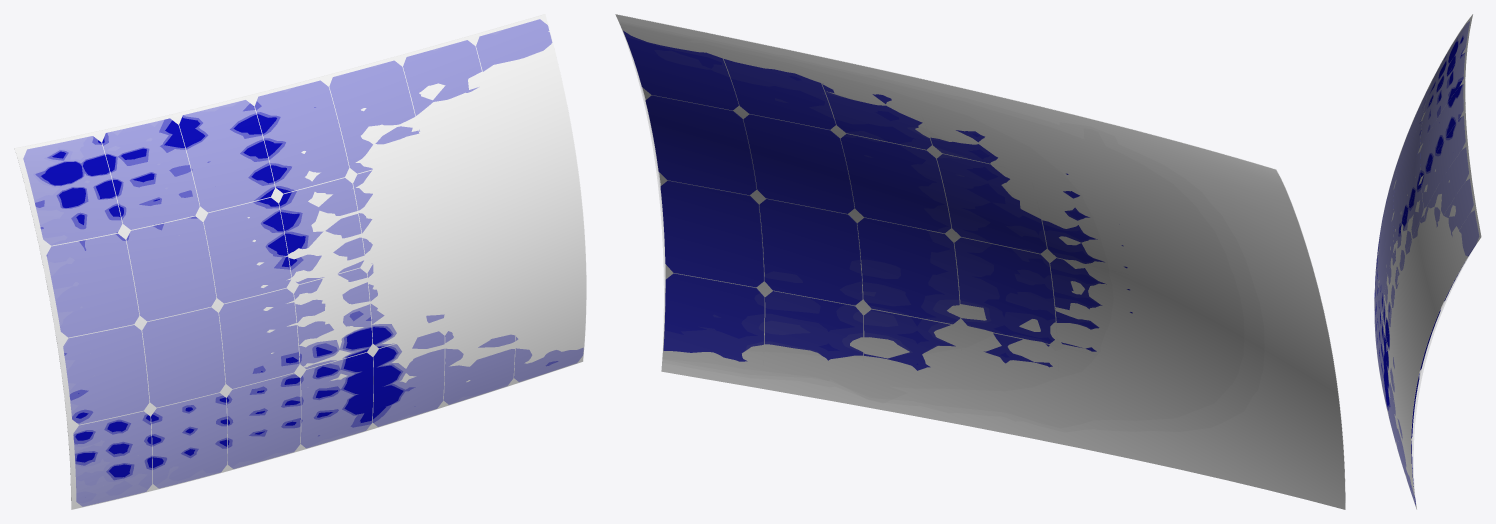
File: solpanel.gltf
3 renders of one model, left to right at view 1: azimuth 30°, elevation 25°; view 2: azimuth 150°, elevation 25°; view 3: azimuth 270°, elevation 25°, orthographic. The views are drawn at different scales.
Parts seen in each view (by area): view 1: solpanel_47, solpanel_12, solpanel_3, solpanel_32, solpanel_58, solpanel_53, solpanel_11, solpanel_45, solpanel_34, solpanel_48, solpanel_24, solpanel_41 (+22 smaller); view 2: solpanel_0, solpanel_12, solpanel_9, solpanel_22, solpanel_1, solpanel_56, solpanel_55, solpanel_43, solpanel_33, solpanel_13, solpanel_44, solpanel_14 (+9 smaller); view 3: solpanel_47, solpanel_12, solpanel_53, solpanel_11, solpanel_41, solpanel_58, solpanel_32, solpanel_24, solpanel_52, solpanel_3, solpanel_30, solpanel_34 (+13 smaller).
Boxes of the visible parts, box(x1,y1,x2,y2) form: solpanel_47: box(15, 14, 586, 509); solpanel_12: box(14, 14, 585, 509); solpanel_3: box(126, 216, 215, 320); solpanel_32: box(23, 136, 112, 245); solpanel_58: box(204, 197, 290, 303); solpanel_53: box(256, 87, 348, 193); solpanel_11: box(182, 111, 274, 212); solpanel_45: box(142, 307, 224, 407); solpanel_34: box(219, 288, 299, 388); solpanel_48: box(73, 414, 152, 506); solpanel_24: box(113, 136, 199, 229); solpanel_41: box(329, 65, 418, 173); solpanel_0: box(620, 23, 1243, 427); solpanel_12: box(615, 14, 1345, 509); solpanel_9: box(660, 181, 763, 287); solpanel_22: box(759, 199, 862, 305); solpanel_1: box(857, 218, 959, 324); solpanel_56: box(645, 95, 756, 195); solpanel_55: box(954, 237, 1055, 343); solpanel_43: box(743, 114, 854, 213); solpanel_33: box(840, 134, 951, 233); solpanel_13: box(663, 273, 764, 361); solpanel_44: box(937, 154, 1046, 253); solpanel_14: box(764, 291, 863, 360); solpanel_47: box(1374, 14, 1480, 508); solpanel_12: box(1378, 14, 1481, 508); solpanel_53: box(1421, 123, 1461, 207); solpanel_11: box(1420, 93, 1457, 176); solpanel_41: box(1425, 150, 1466, 226); solpanel_58: box(1393, 152, 1420, 244); solpanel_32: box(1425, 21, 1469, 105); solpanel_24: box(1421, 79, 1453, 144); solpanel_52: box(1395, 183, 1423, 275); solpanel_3: box(1393, 121, 1421, 212); solpanel_30: box(1444, 181, 1471, 235); solpanel_34: box(1379, 220, 1393, 311).
Bounding box in the file's own units: 0.8898 × 0.508 × 0.1807.
